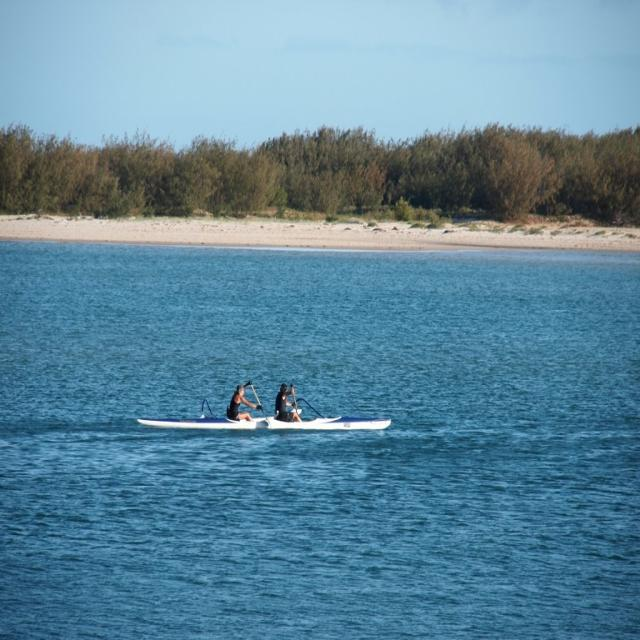Boat: (139, 381, 392, 427)
